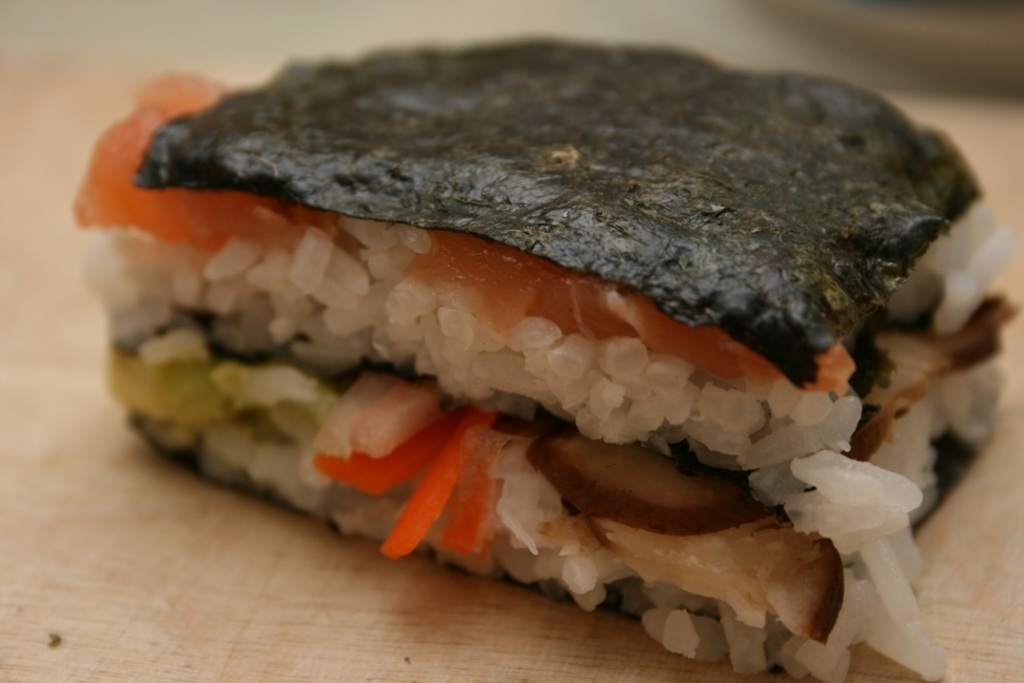sushi: (72, 40, 1022, 675)
